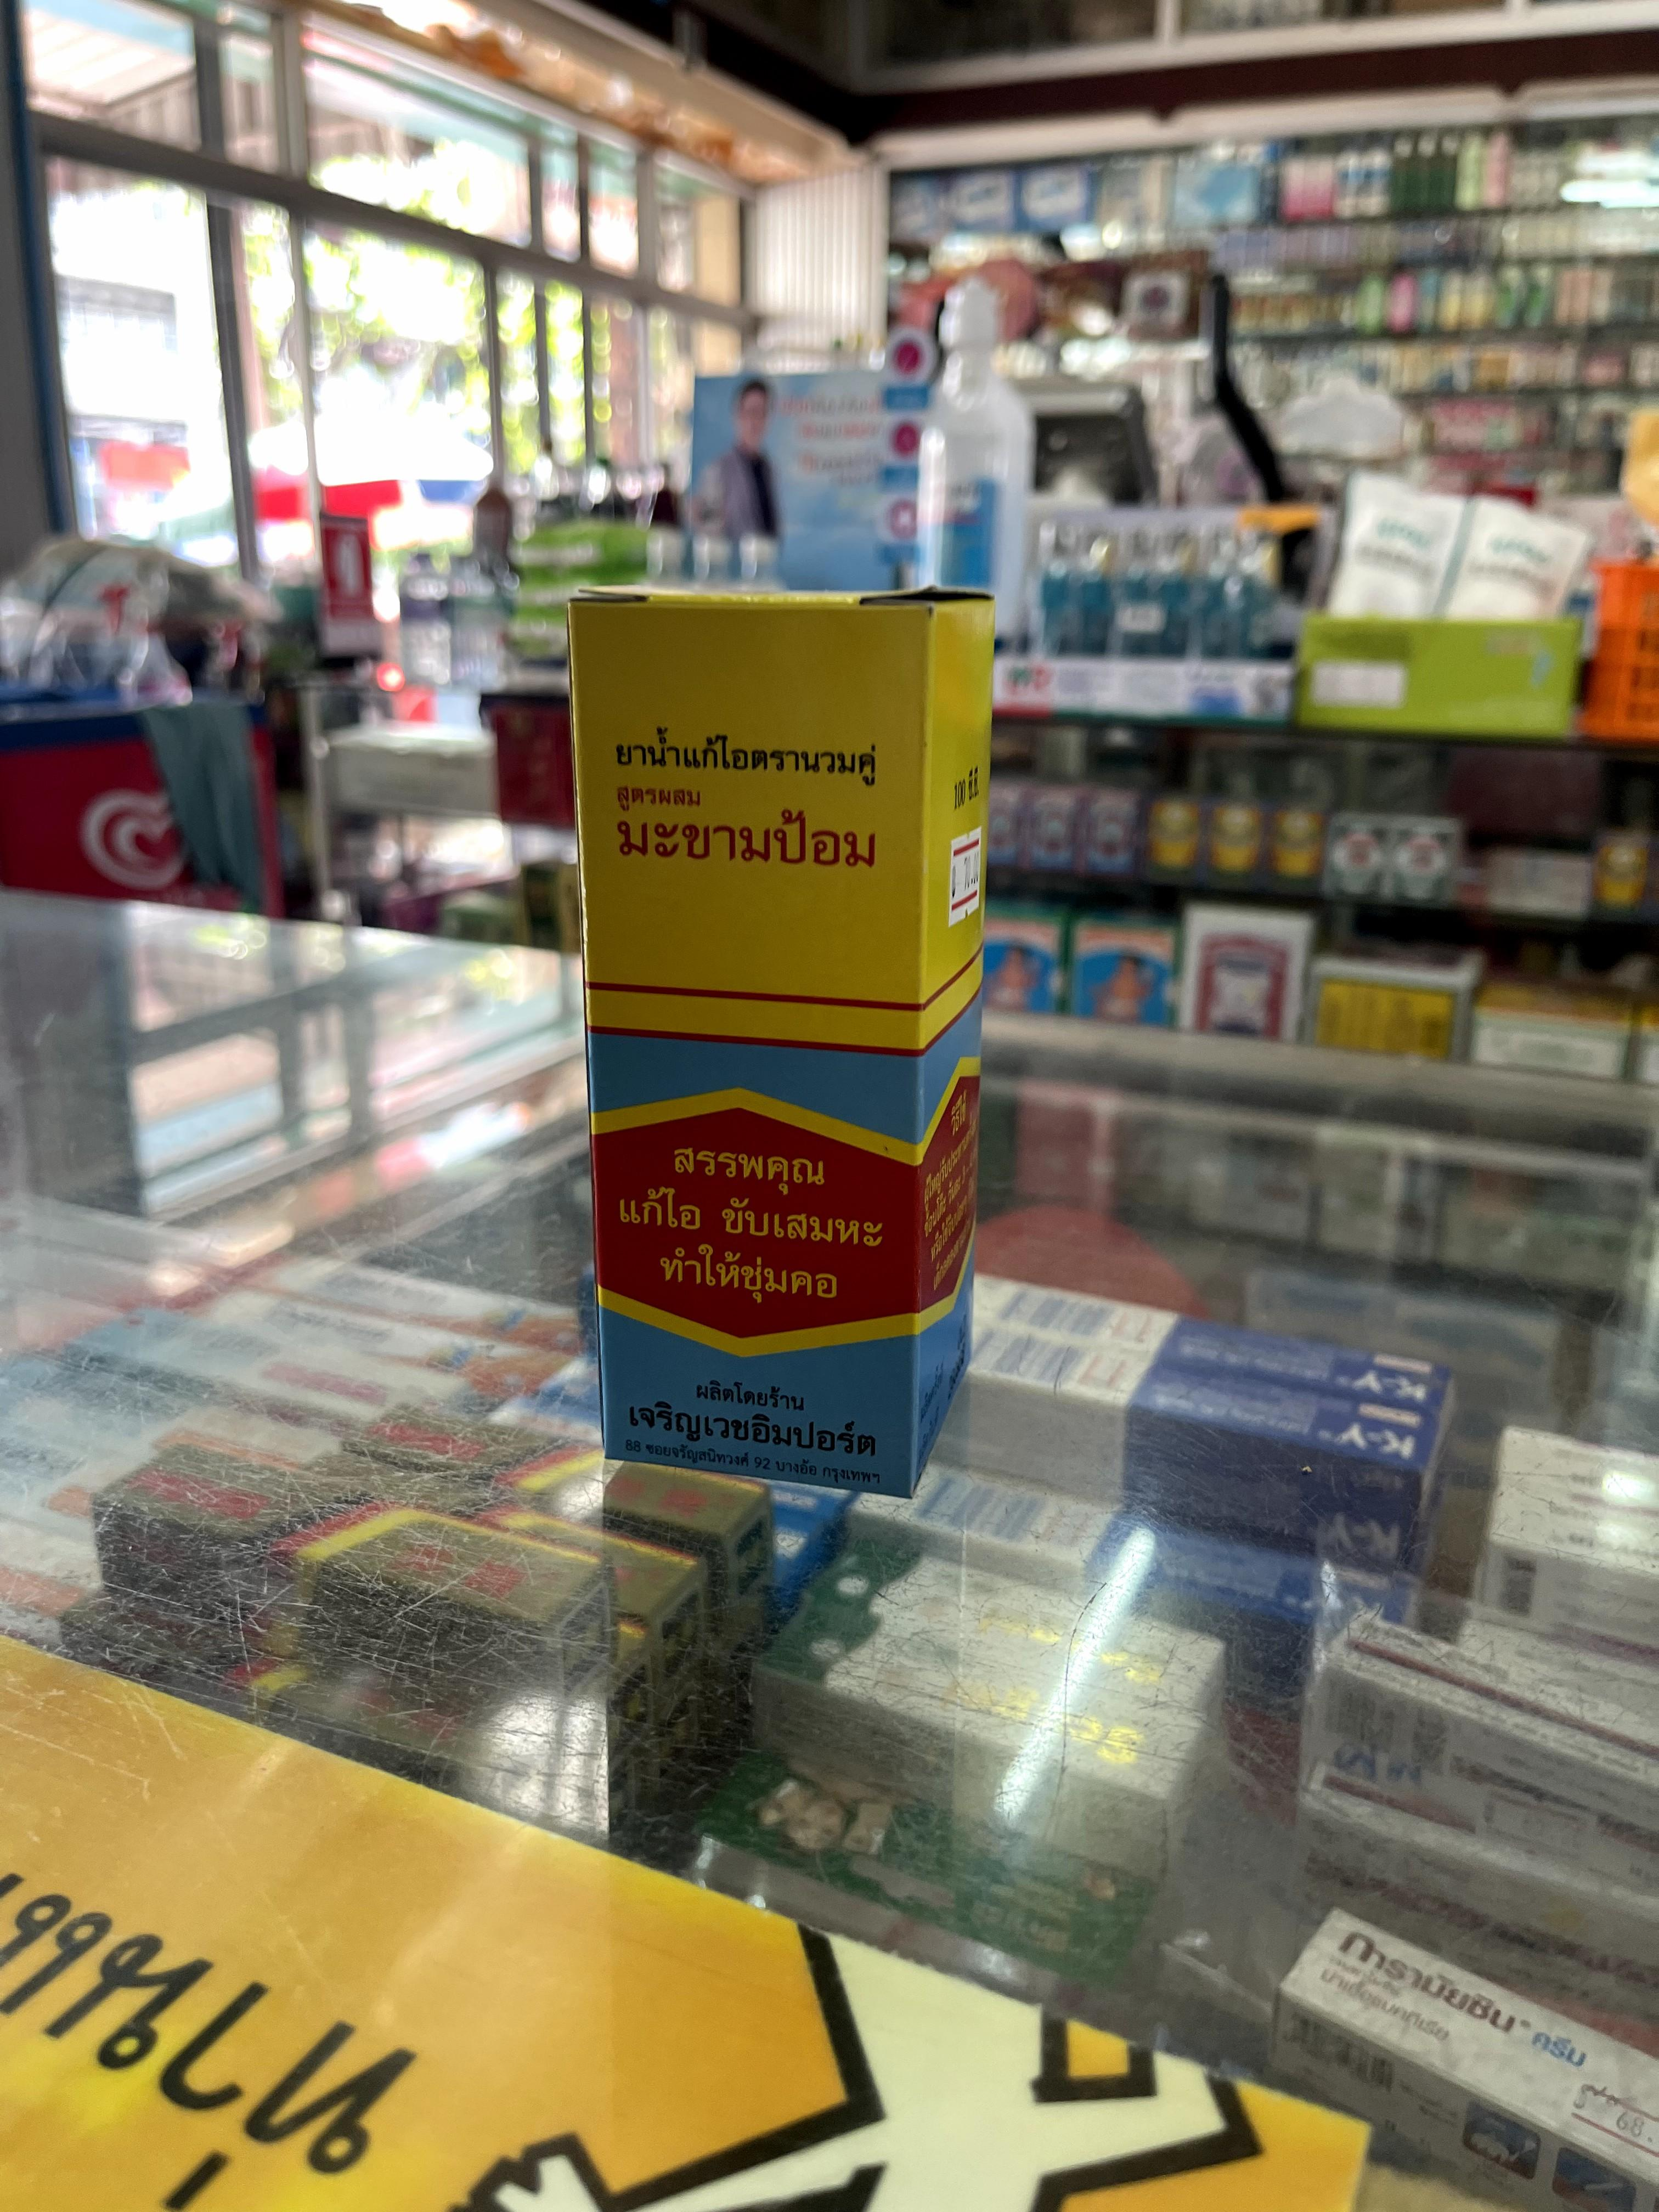Ma-Kham-Pom: (582, 587, 1004, 1493)
